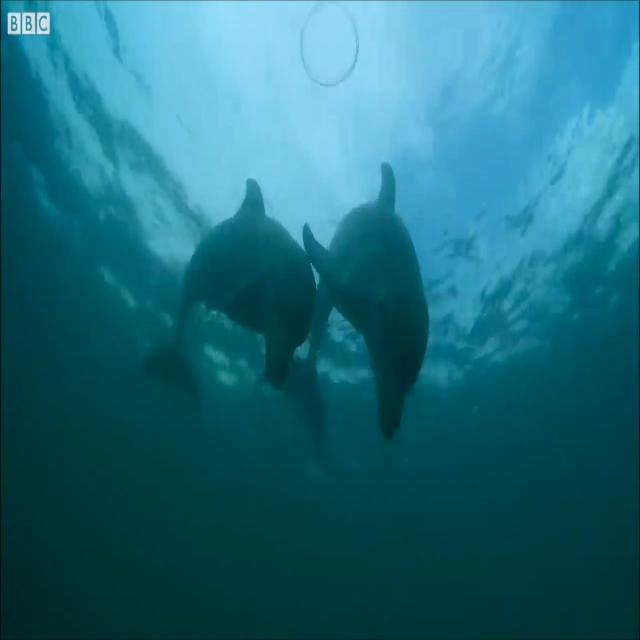Dolphin: (143, 178, 309, 400), (305, 164, 431, 438)
